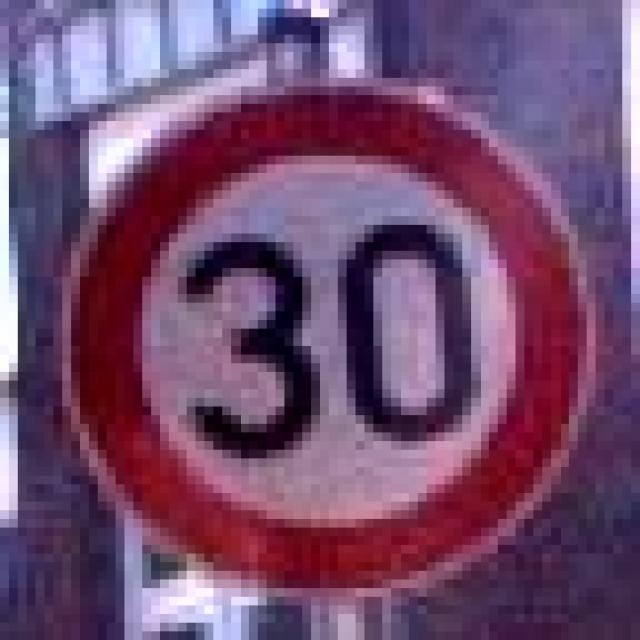speed limit 30: (58, 73, 596, 599)
